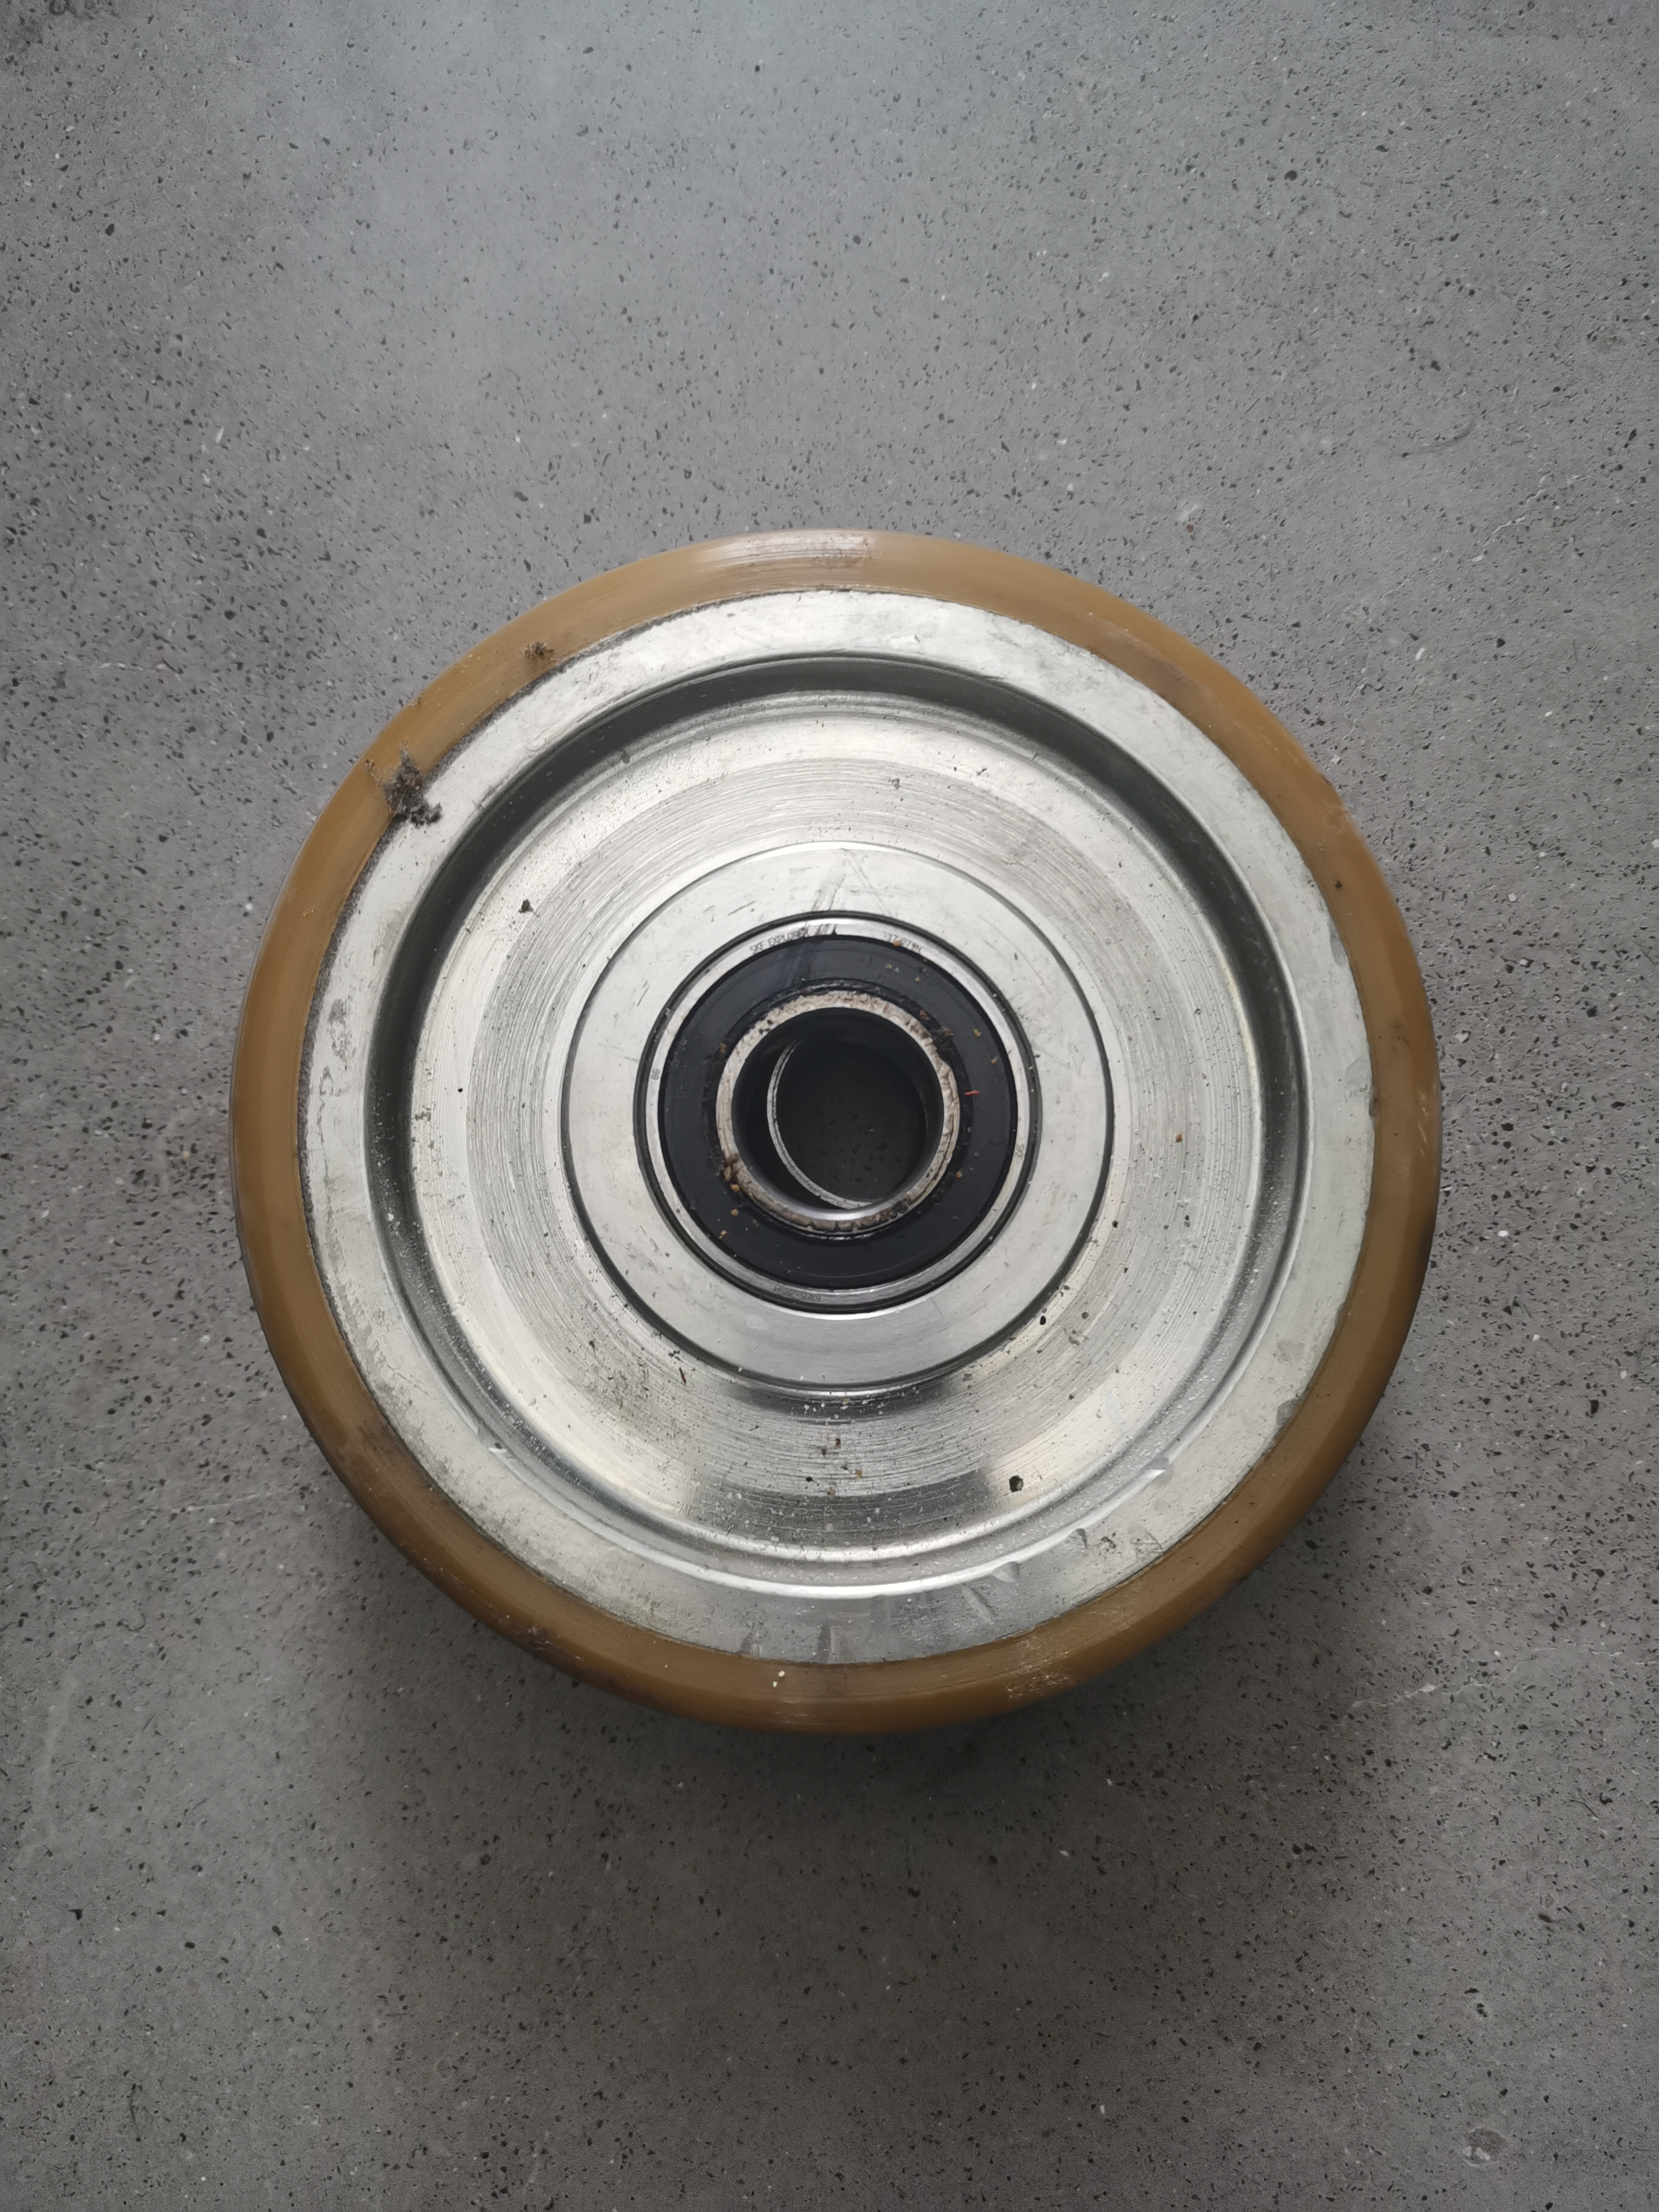good_wheel: (220, 517, 1513, 1806)
